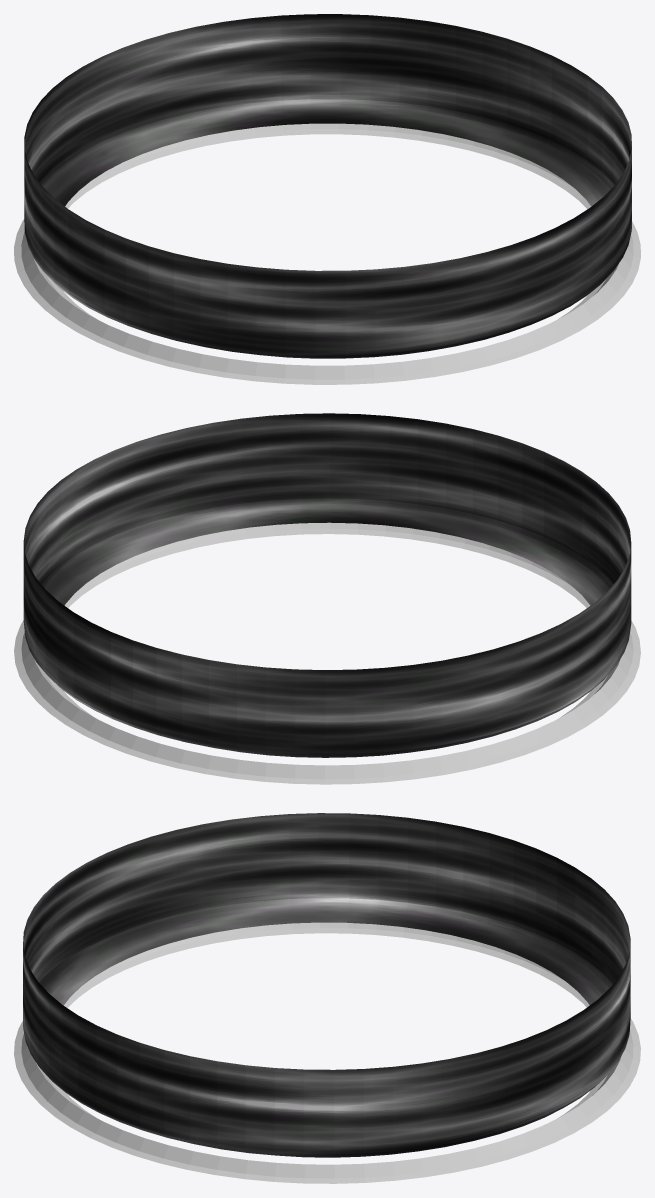
Rendered from AreaCircle.fbx.
The picture shows the model from 3 angles, top to bottom: view 1: azimuth 30°, elevation 25°; view 2: azimuth 150°, elevation 25°; view 3: azimuth 270°, elevation 25°; orthographic projection.
Parts seen in each view (by area): view 1: SM_EFF_AreaCircle_4m.mo; view 2: SM_EFF_AreaCircle_4m.mo; view 3: SM_EFF_AreaCircle_4m.mo.
Part boxes in pixels (x1,y1,x2,y2): SM_EFF_AreaCircle_4m.mo: [14, 14, 640, 384]; SM_EFF_AreaCircle_4m.mo: [14, 413, 640, 784]; SM_EFF_AreaCircle_4m.mo: [14, 813, 640, 1183].
Bounding box in the file's own units: 825 × 160 × 825.
